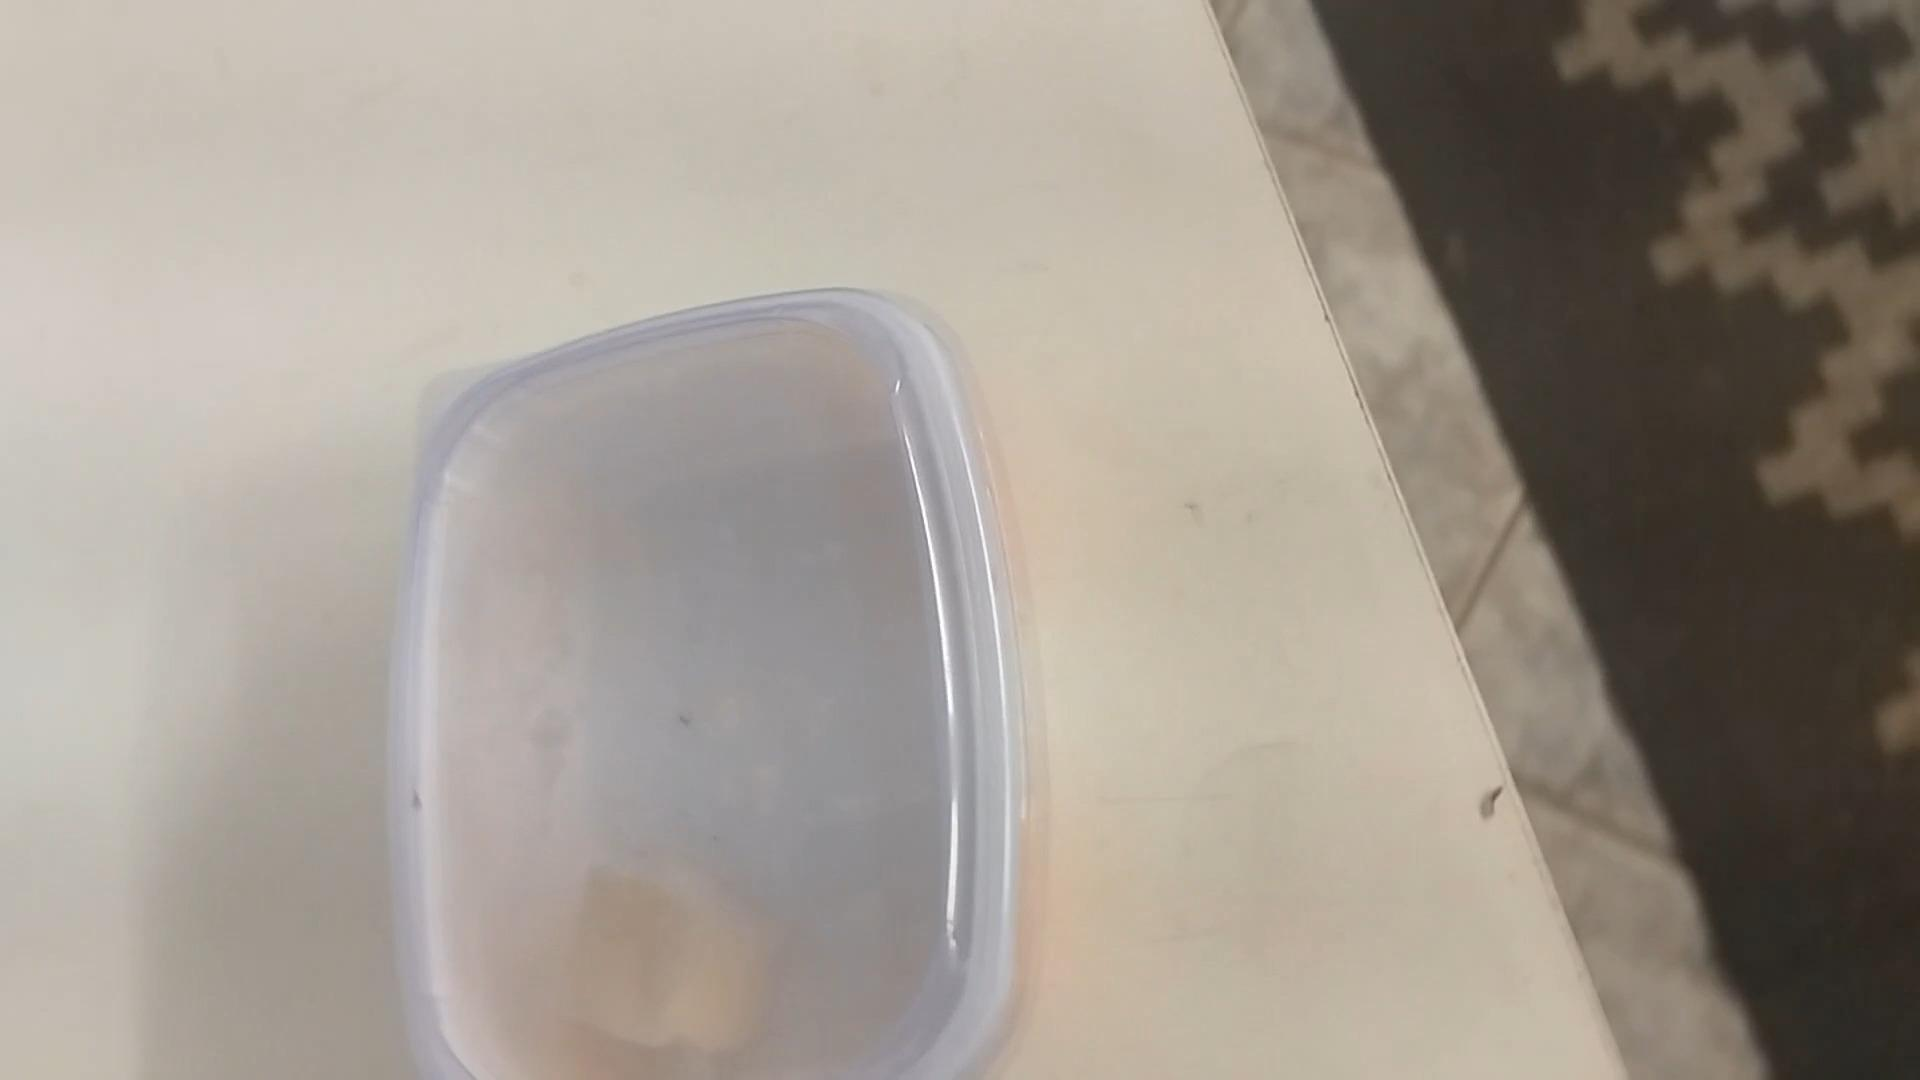butter: (398, 299, 1026, 1080)
